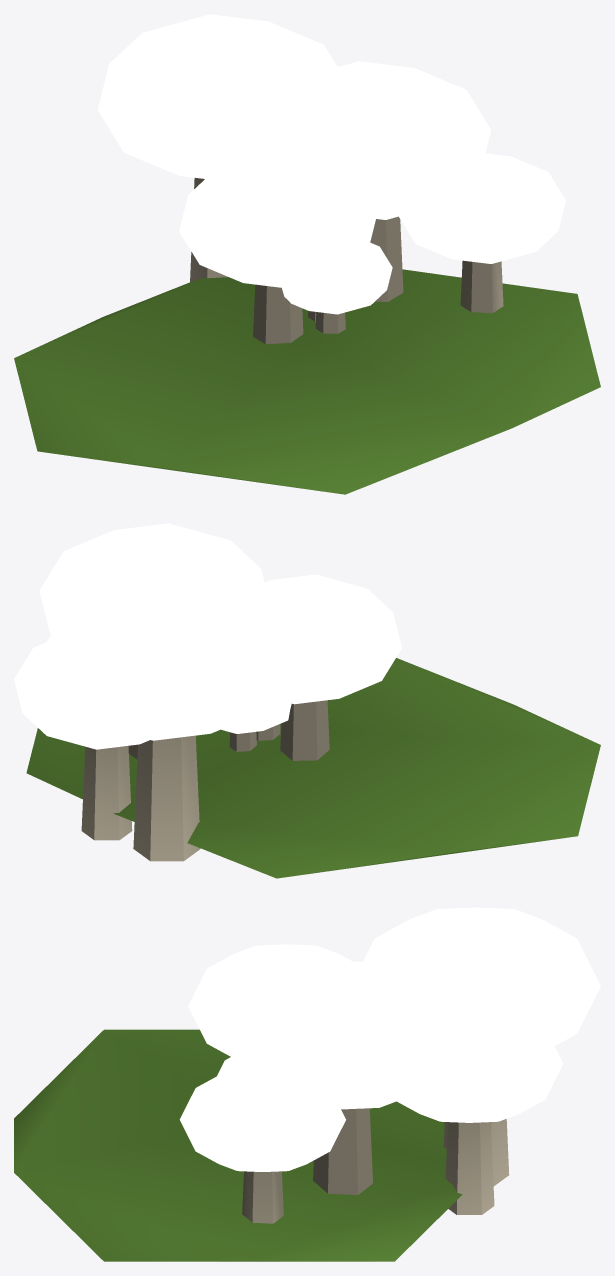
The model's file is cv_wurzel_deco_1.glb.
The picture shows the model from 3 angles, top to bottom: view 1: azimuth 30°, elevation 25°; view 2: azimuth 150°, elevation 25°; view 3: azimuth 270°, elevation 25°; orthographic projection. The views are drawn at different scales.
Parts seen in each view (by area): view 1: body, deco_glow; view 2: body, deco_glow; view 3: deco_glow, body.
Part boxes in pixels (x1,y1,x2,y2): body: (14,178,600,494); deco_glow: (97,14,565,314); body: (26,658,600,878); deco_glow: (14,523,401,749); deco_glow: (179,907,600,1171); body: (14,1029,509,1261).
Size of the model in its own units: 1.97 by 0.9589 by 1.91.
